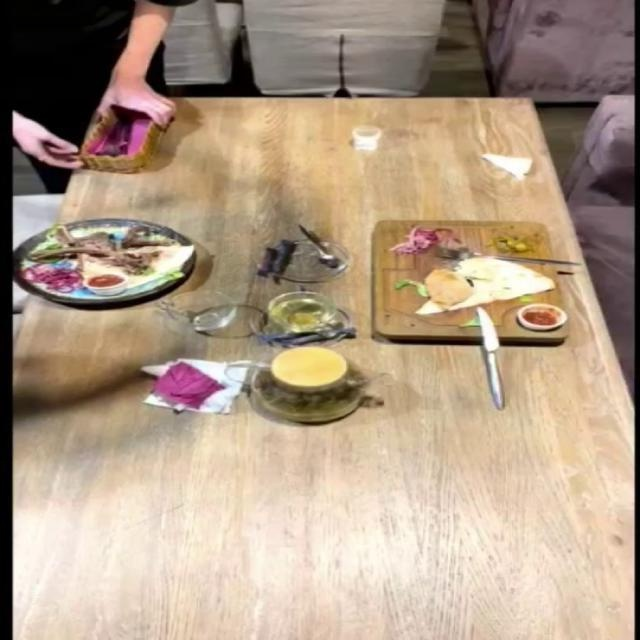meat: (366, 216, 576, 342), (11, 215, 197, 333)
tea: (219, 336, 382, 464)
